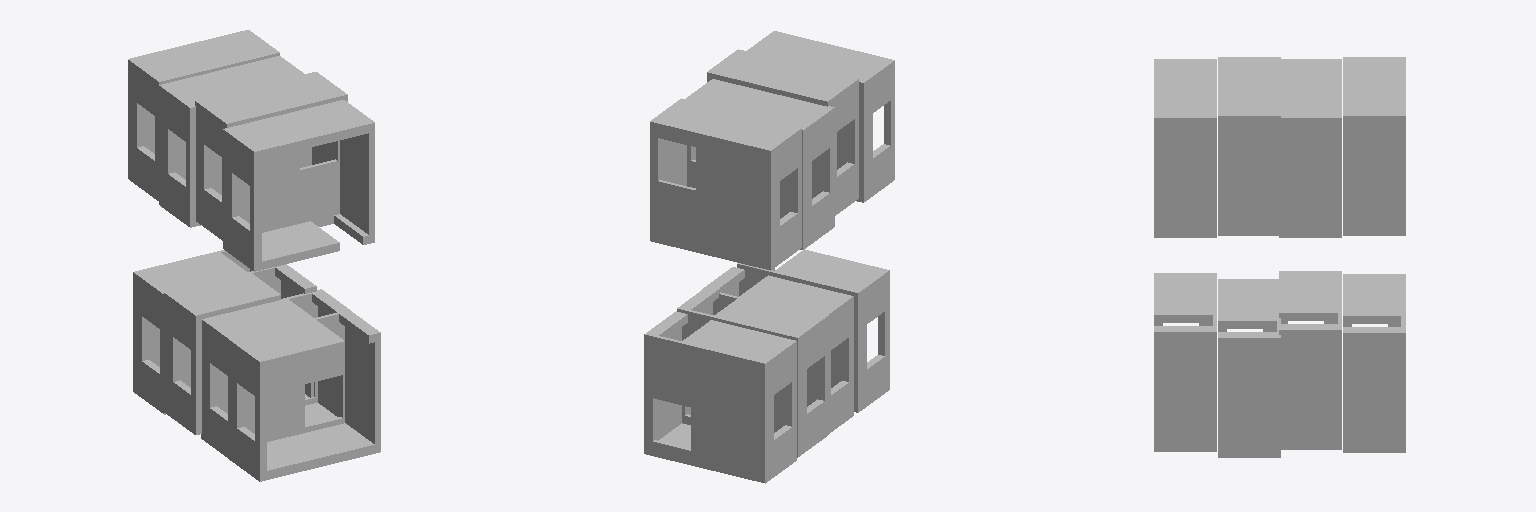
Rendered from somebuilding.obj.
3 views of the same model, side by side, from view 1: azimuth 30°, elevation 25°; view 2: azimuth 150°, elevation 25°; view 3: azimuth 270°, elevation 25° (orthographic).
Visible parts, largest first — view 1: obj_0; view 2: obj_0; view 3: obj_0.
Boxes of the visible parts, x1,y1,x2,y2 form: obj_0: [128, 30, 380, 481]; obj_0: [644, 31, 894, 483]; obj_0: [1154, 57, 1405, 457].
Bounding box in the file's own units: 221 × 540 × 363.